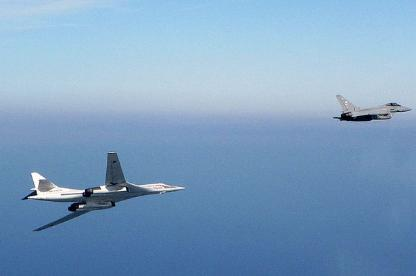E2: (332, 93, 412, 120)
Su34: (21, 150, 186, 229)
